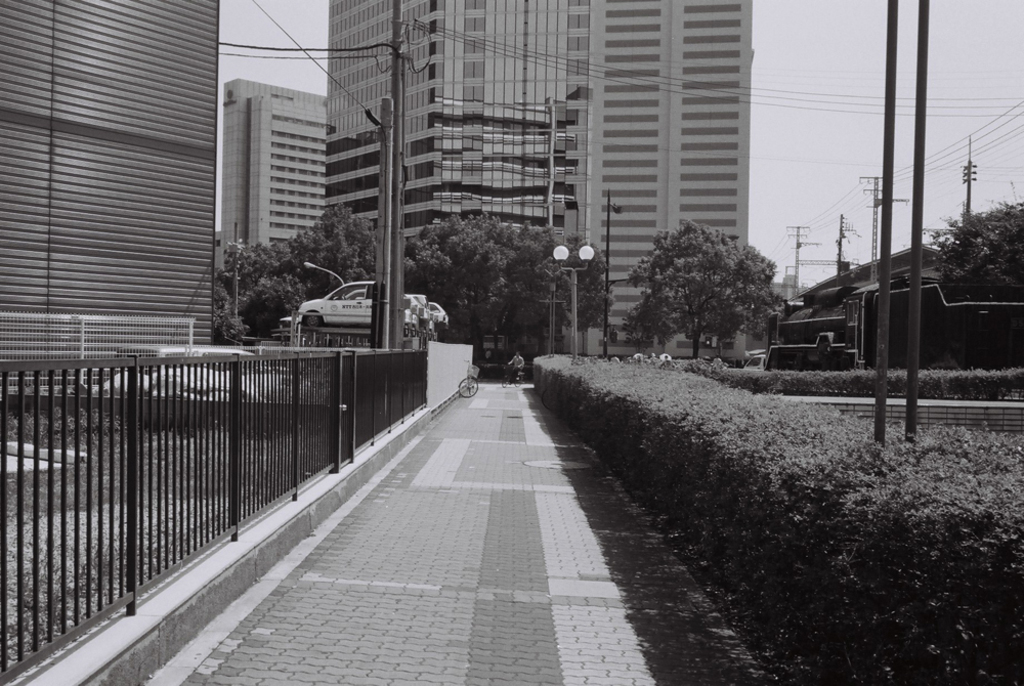Car: (306, 285, 447, 326)
